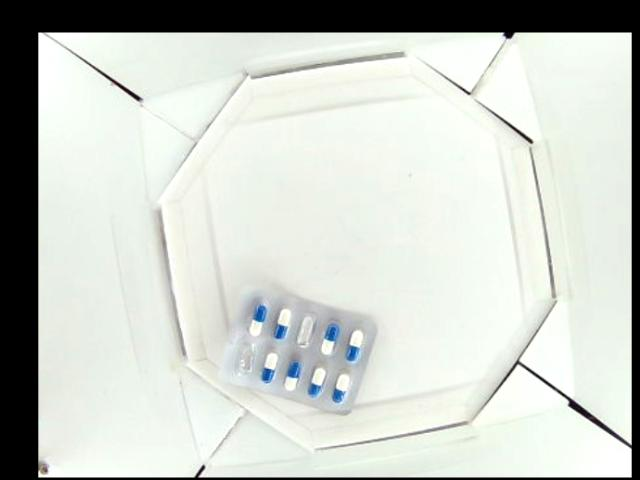Medicine: (217, 278, 376, 413)
